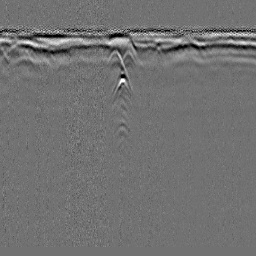cavity: (122, 48, 137, 64)
